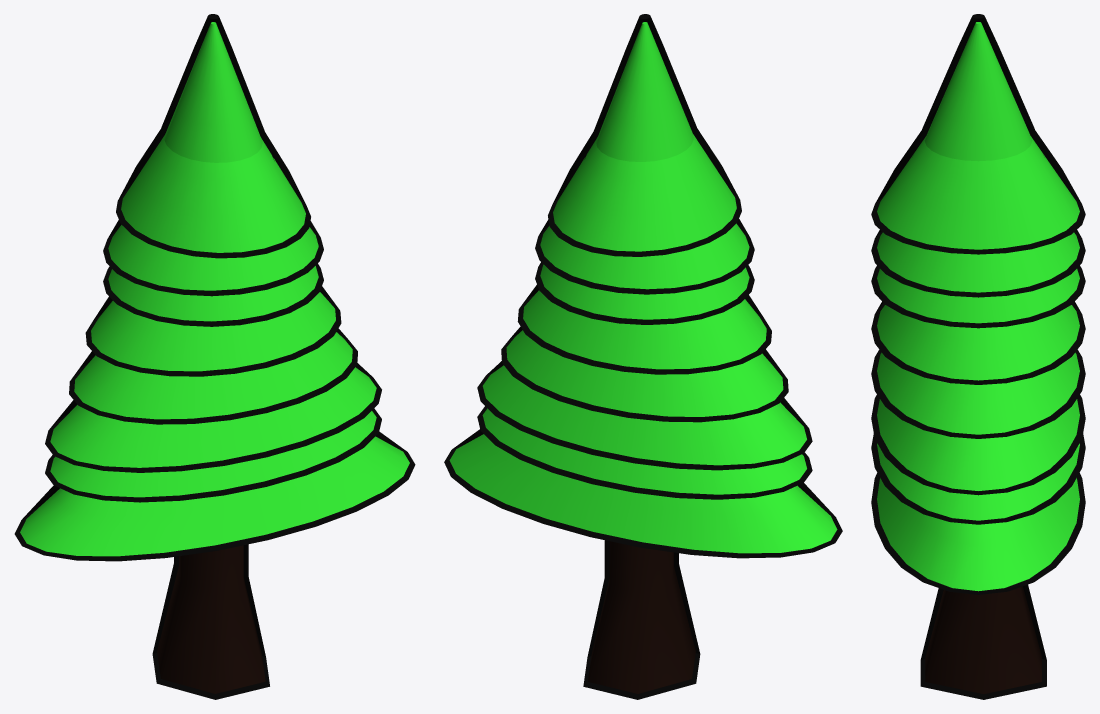
Rendered from fixed pine tree.FBX.
The picture shows the model from 3 angles, left to right: view 1: azimuth 30°, elevation 25°; view 2: azimuth 150°, elevation 25°; view 3: azimuth 270°, elevation 25°; orthographic projection.
Visible parts, largest first — view 1: Pine tree; view 2: Pine tree; view 3: Pine tree.
Part boxes in pixels (x1,y1,x2,y2): Pine tree: (14, 14, 415, 699); Pine tree: (444, 14, 842, 699); Pine tree: (871, 14, 1085, 699).
Size of the model in its own units: 13.94 by 22.64 by 6.7.
